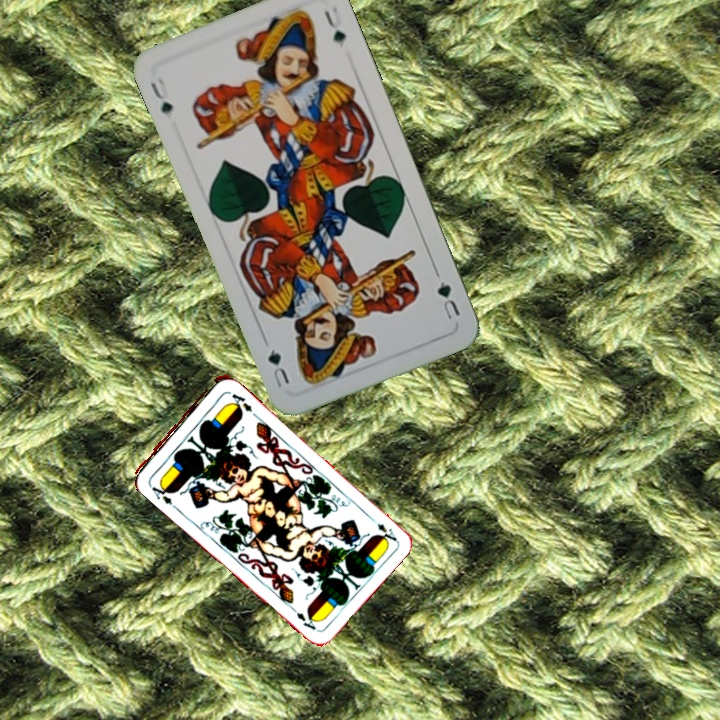EA: (144, 474, 177, 510), (365, 513, 399, 544)
GU: (433, 277, 463, 322), (146, 74, 176, 118)
